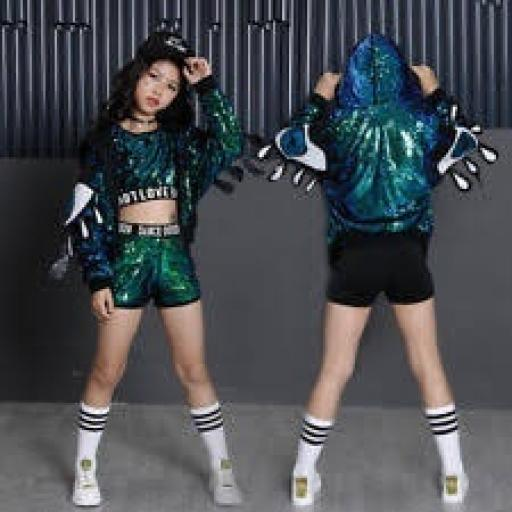dancing: (262, 30, 500, 510), (44, 27, 250, 510)
